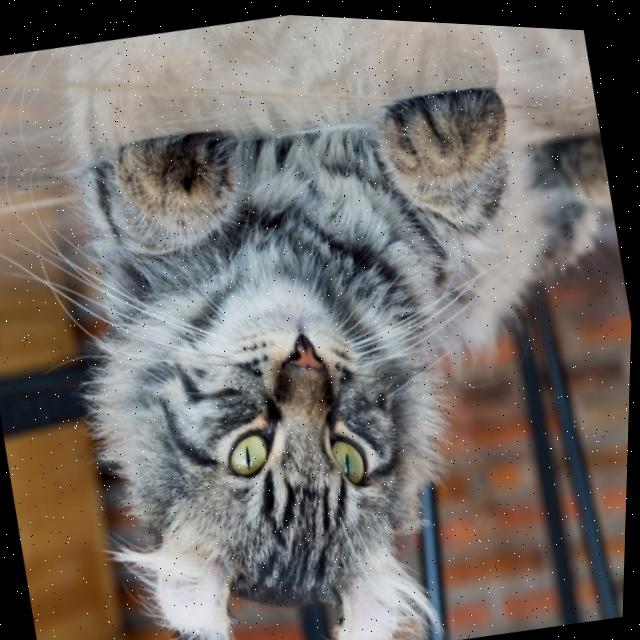American Curl: (26, 37, 639, 640)
